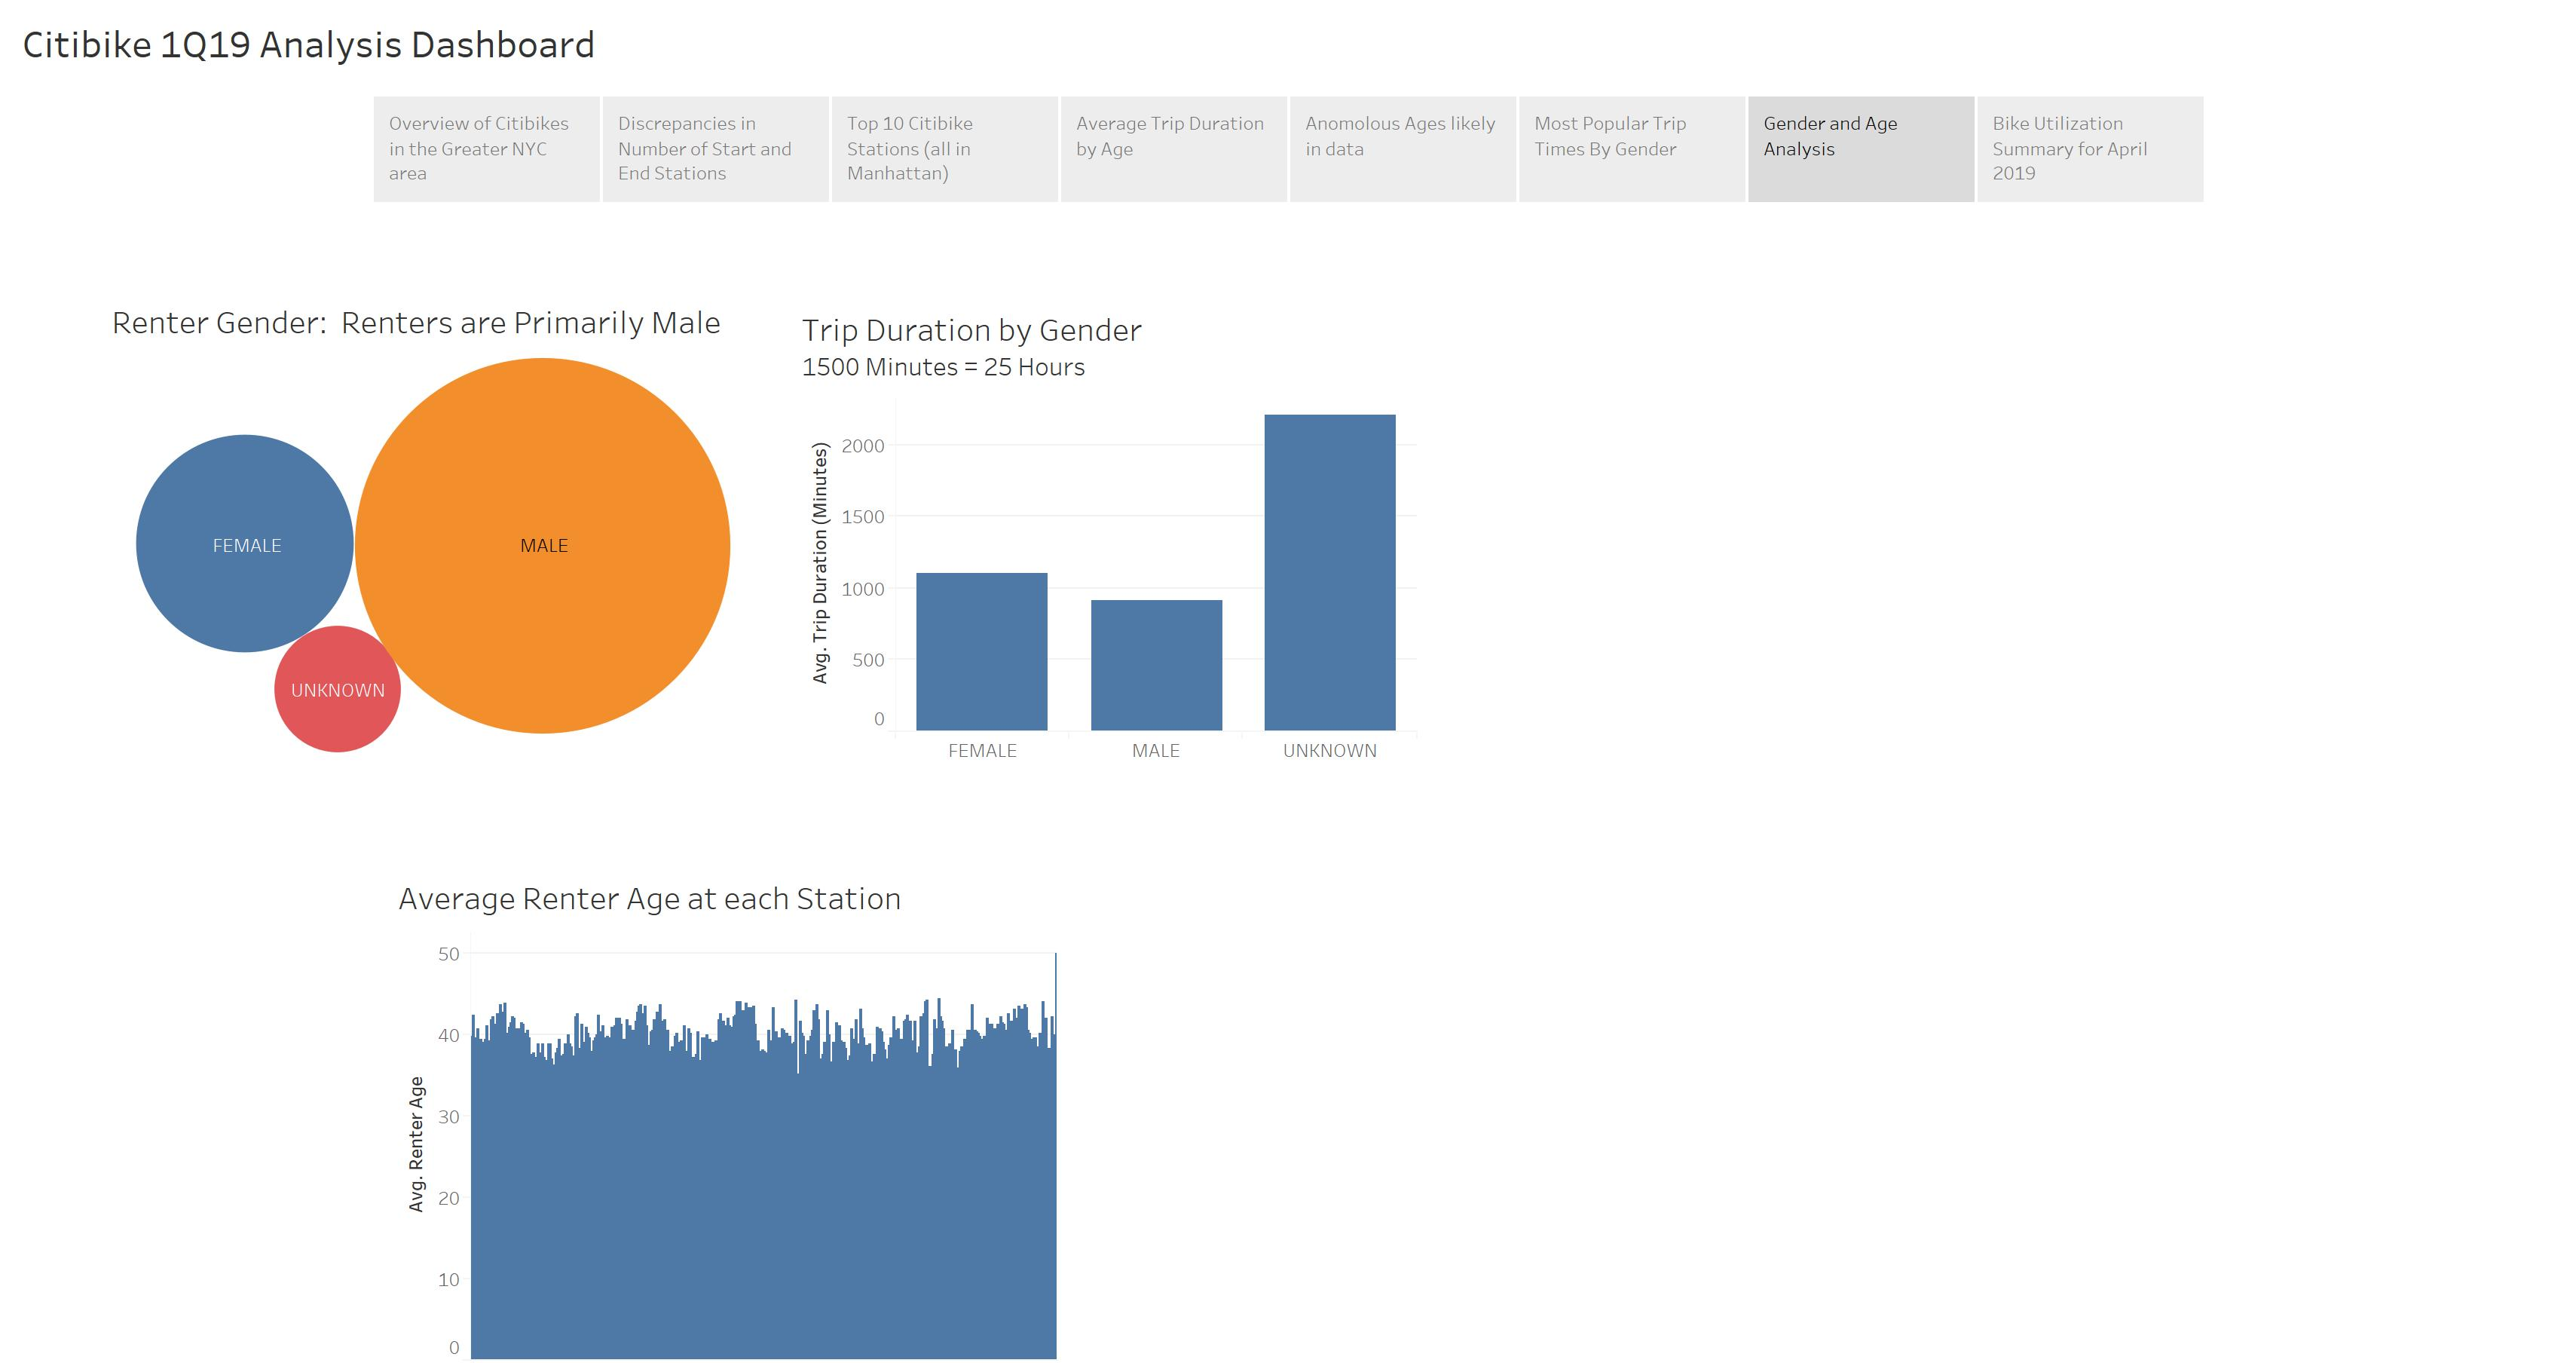

The dashboard page shown, as its layout file describes it:
{"tool":"tableau","page":{"name":"Gender and Age","canvas":[1000,800],"ordinal":2},"visuals":[{"type":"worksheet","title":"Male vs Female","mark":"Circle","box":[62,43,435,306]},{"type":"worksheet","title":"Male vs Female Distance","mark":"Automatic","rows":["tripduration"],"cols":["Calculation_978970029277655041"],"box":[520,48,412,308]},{"type":"worksheet","title":"Ave Renter Age","mark":"Automatic","rows":["Calculation_978970029273628672"],"cols":["start station name"],"box":[252,425,441,327]}]}

Visuals, with their boxes on the page's 1000x800 design canvas (x1, y1, x2, y2). These are canvas units, not pixel positions in the 2576x1363 screenshot, which may show the page scaled, cropped or inside an application window:
"Male vs Female" worksheet (Circle marks): pyautogui.locateOnScreen(62, 43, 497, 349)
"Male vs Female Distance" worksheet: pyautogui.locateOnScreen(520, 48, 932, 356)
"Ave Renter Age" worksheet: pyautogui.locateOnScreen(252, 425, 693, 752)
